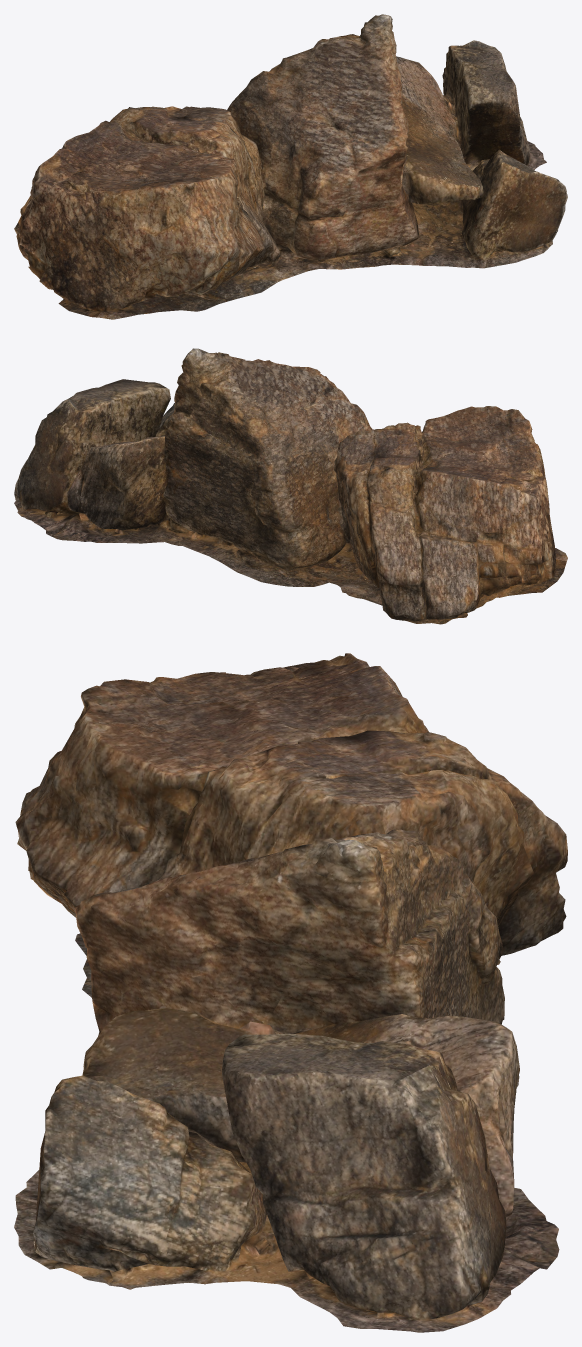
The model's file is road_rocks.glb.
The picture shows the model from 3 angles, top to bottom: view 1: azimuth 30°, elevation 25°; view 2: azimuth 150°, elevation 25°; view 3: azimuth 270°, elevation 25°; orthographic projection. The views are drawn at different scales.
Visible parts, largest first — view 1: road_rocks; view 2: road_rocks; view 3: road_rocks.
Boxes of the visible parts, x1=… form: road_rocks: x1=14, y1=14, x2=567, y2=319; road_rocks: x1=14, y1=348, x2=567, y2=624; road_rocks: x1=14, y1=653, x2=567, y2=1332.
Bounding box in the file's own units: 2.53 × 0.8804 × 1.23.
Materials: 1 (1 with a texture image).
